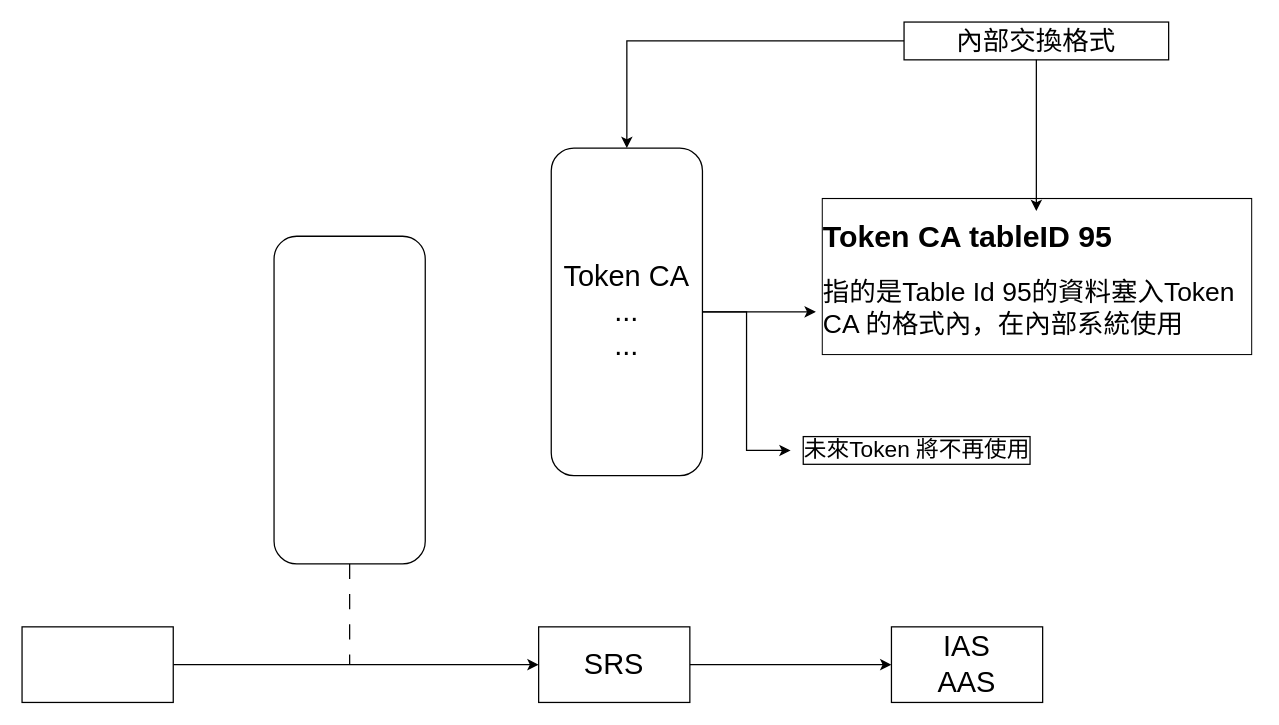
Image size: 1279x725. Some labels were removed from this diagram. The centre of each missing label's shape, as x and y in pixels:
"Fields 63 (Table 95) ... ... ..." goes at point 349,399.
"POS" goes at point 97,664.
